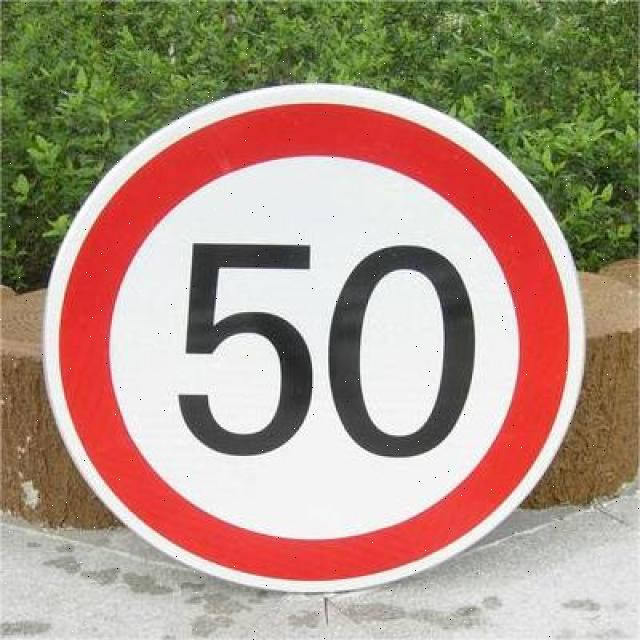speed limit 50: (44, 81, 587, 593)
